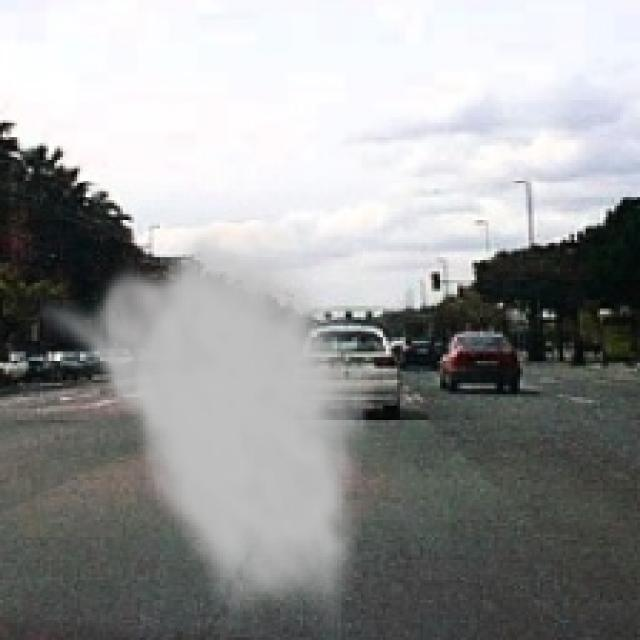smoke: (32, 217, 374, 634)
